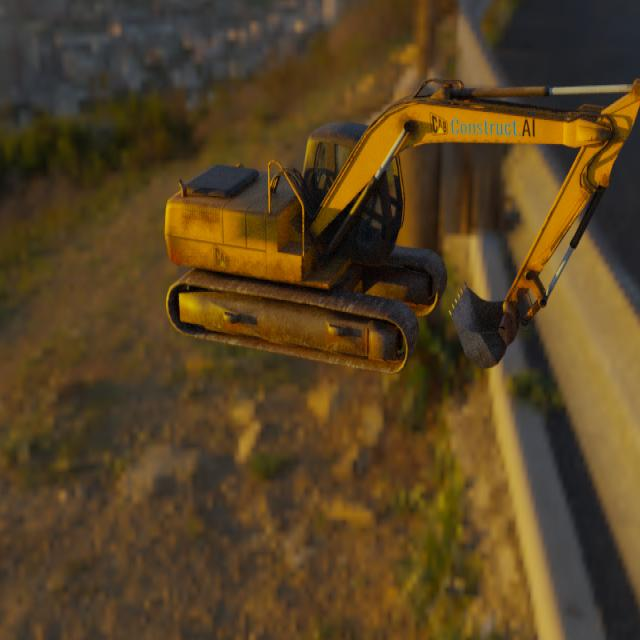excavator: (164, 77, 640, 375)
